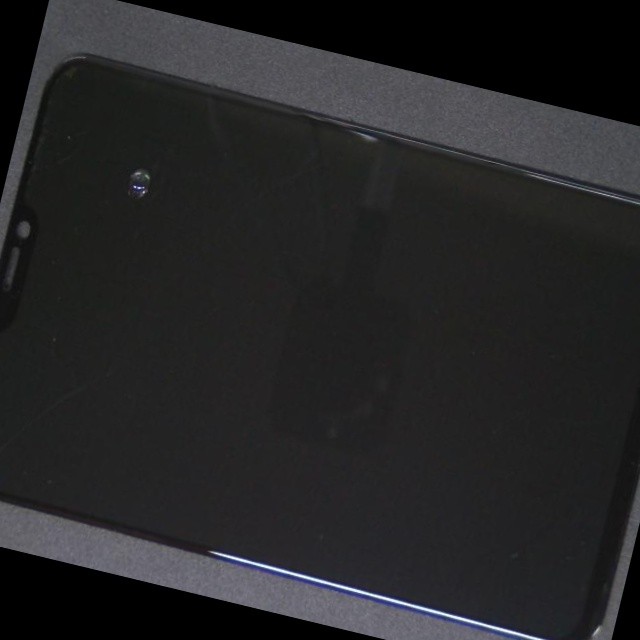oil: (68, 56, 216, 259)
